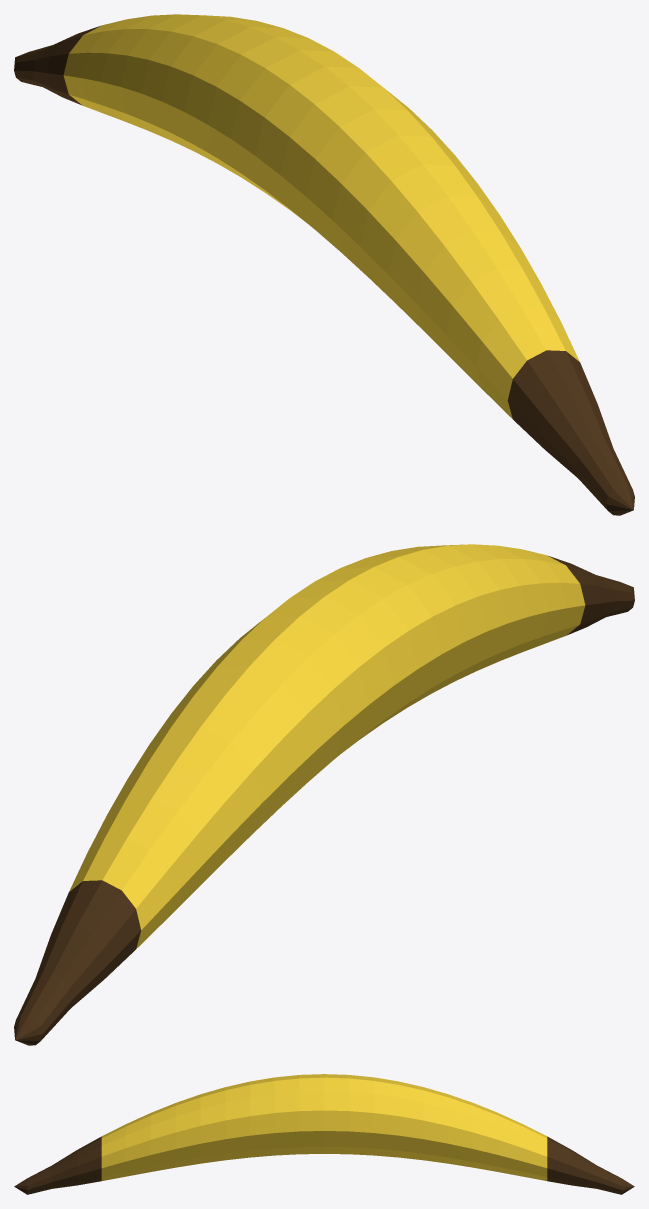
The model's file is banana.obj.
The picture shows the model from 3 angles, top to bottom: view 1: azimuth 30°, elevation 25°; view 2: azimuth 150°, elevation 25°; view 3: azimuth 270°, elevation 25°; orthographic projection. The views are drawn at different scales.
Visible parts, largest first — view 1: Banana, Tips; view 2: Banana, Tips; view 3: Banana, Tips.
Part boxes in pixels (left/top/right/bottom): Banana: left=63, top=14, right=579, bottom=418; Tips: left=14, top=25, right=634, bottom=515; Banana: left=69, top=544, right=585, bottom=948; Tips: left=14, top=555, right=634, bottom=1045; Banana: left=101, top=1074, right=547, bottom=1180; Tips: left=14, top=1136, right=634, bottom=1194.
Bounding box in the file's own units: 24 × 38.5 × 186.
2 materials, 2 textured.
